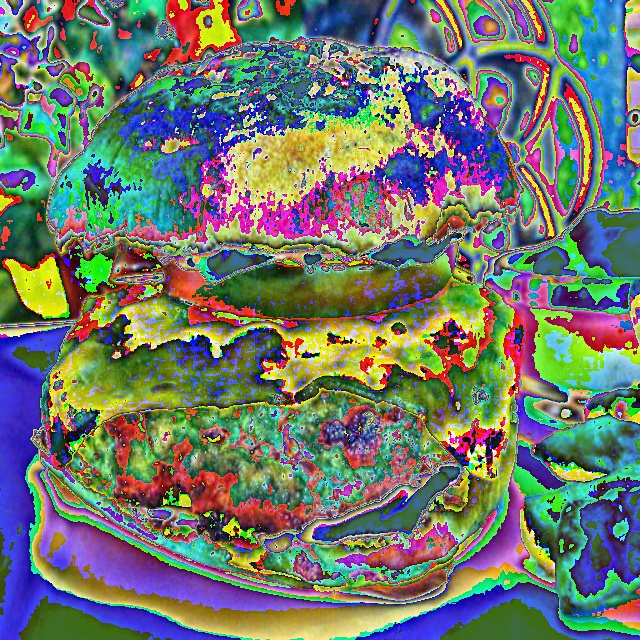background: (32, 36, 527, 600), (121, 274, 639, 615)
